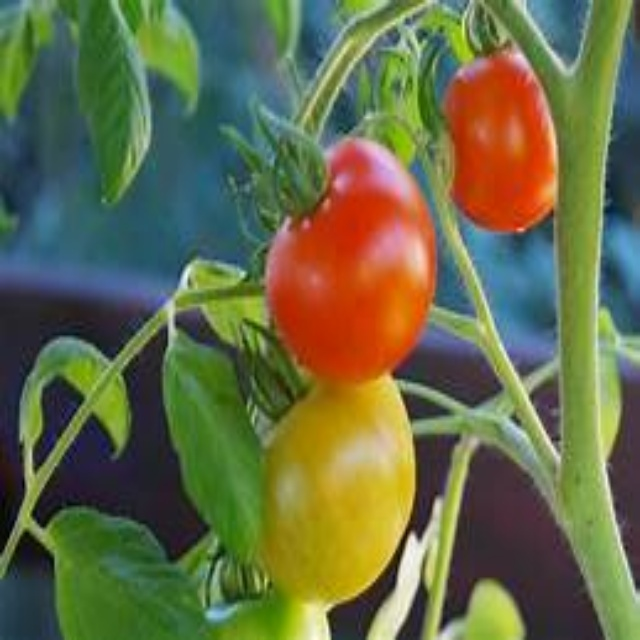tomato: (200, 356, 431, 602), (248, 141, 461, 382), (428, 54, 573, 238)
